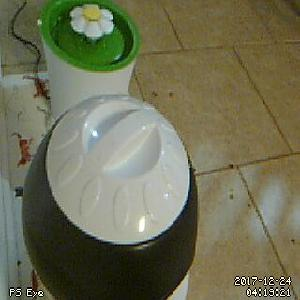fountain: (36, 1, 140, 72)
